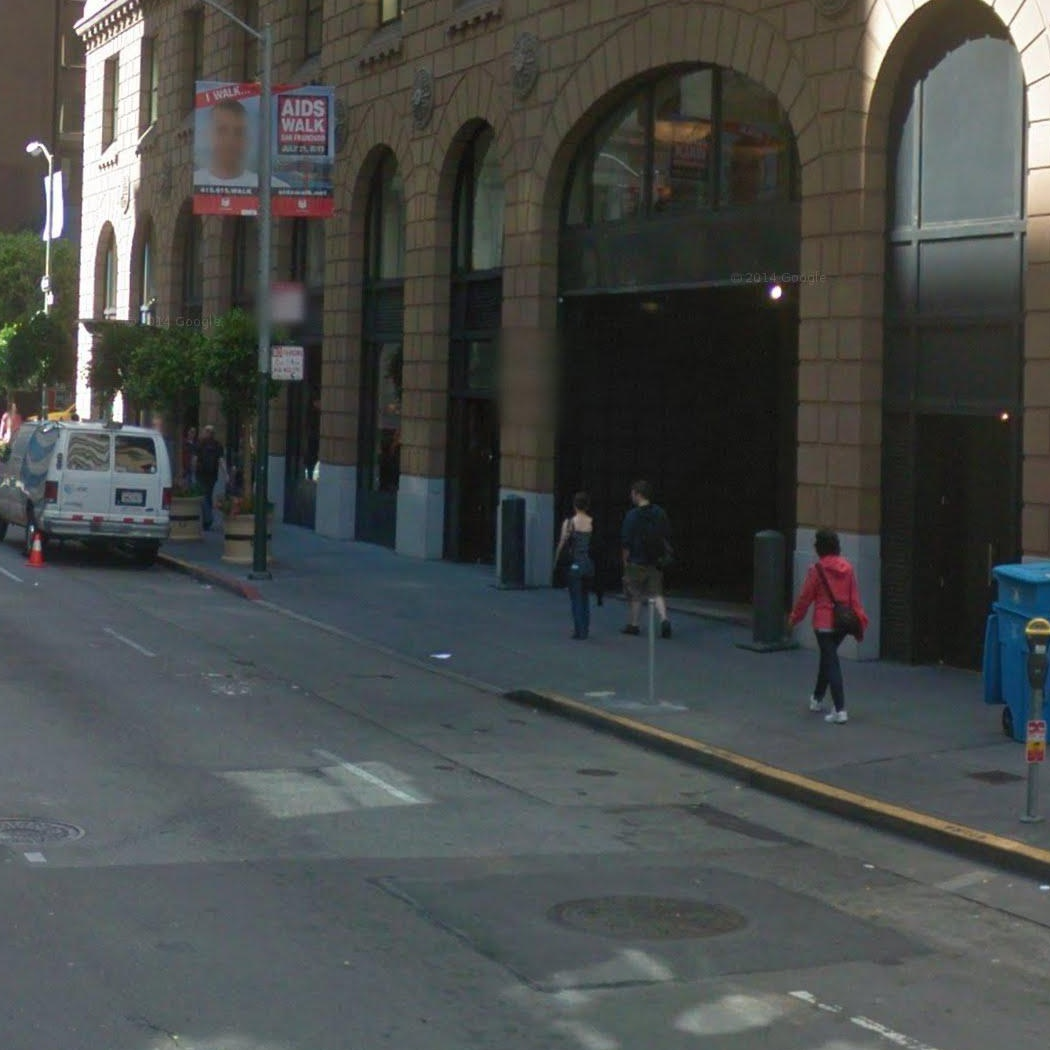No Parking: (270, 345, 305, 382)
